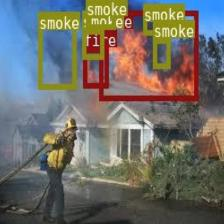fire: (99, 11, 197, 99), (82, 47, 108, 87)
smoke: (38, 11, 76, 88), (86, 0, 115, 29), (81, 28, 103, 58), (143, 4, 164, 34), (152, 37, 169, 68)
